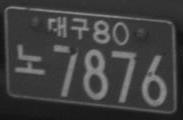0: (111, 20, 130, 46)
6: (140, 54, 168, 108)
7: (51, 42, 80, 98), (110, 49, 137, 103)
8: (81, 46, 110, 102), (91, 18, 111, 45)
노: (14, 43, 46, 77)
대구_O: (47, 16, 90, 41)
